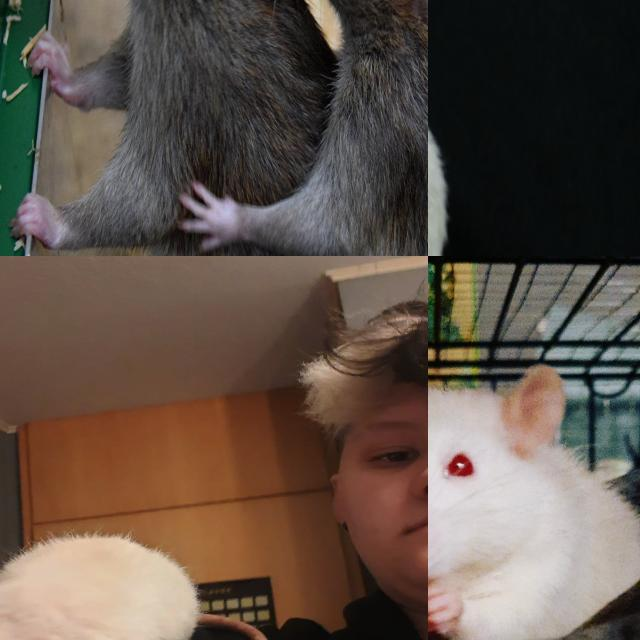rat: (16, 0, 258, 256), (428, 357, 640, 640), (258, 0, 428, 256), (0, 532, 196, 640)
